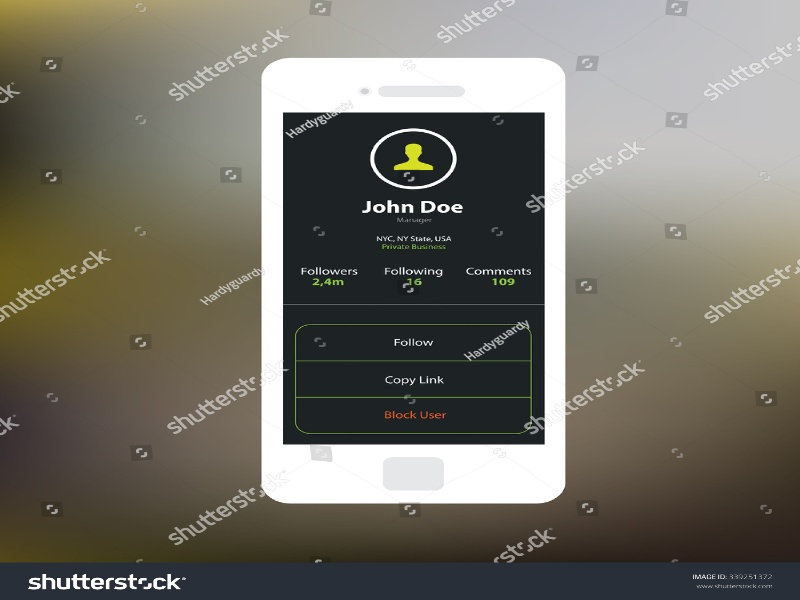mobile: (252, 43, 569, 519)
